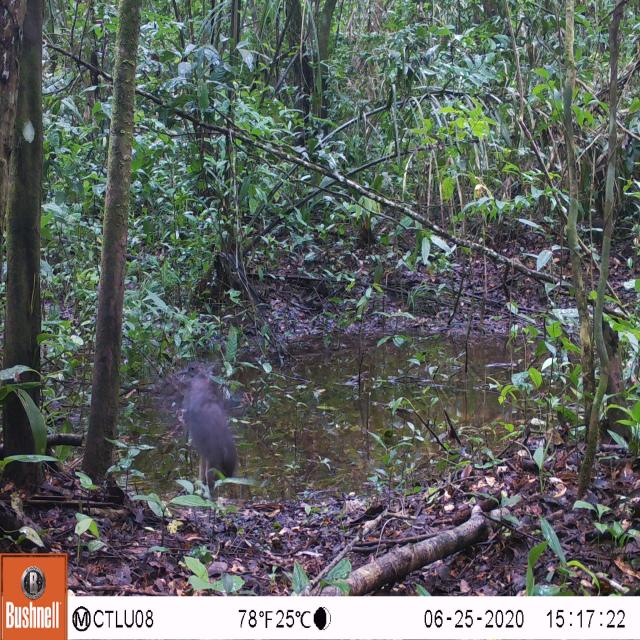Crypturellus: (166, 342, 247, 506)
